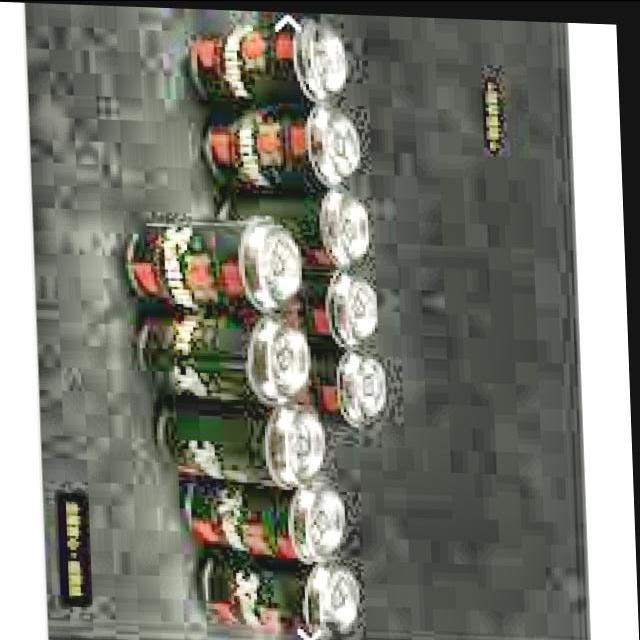Aluminum Can: (127, 207, 314, 323), (136, 304, 320, 412), (156, 392, 332, 490), (183, 468, 361, 564), (188, 12, 358, 111), (200, 543, 366, 640), (224, 176, 384, 272), (208, 95, 370, 188), (300, 342, 400, 429), (296, 262, 395, 348)
